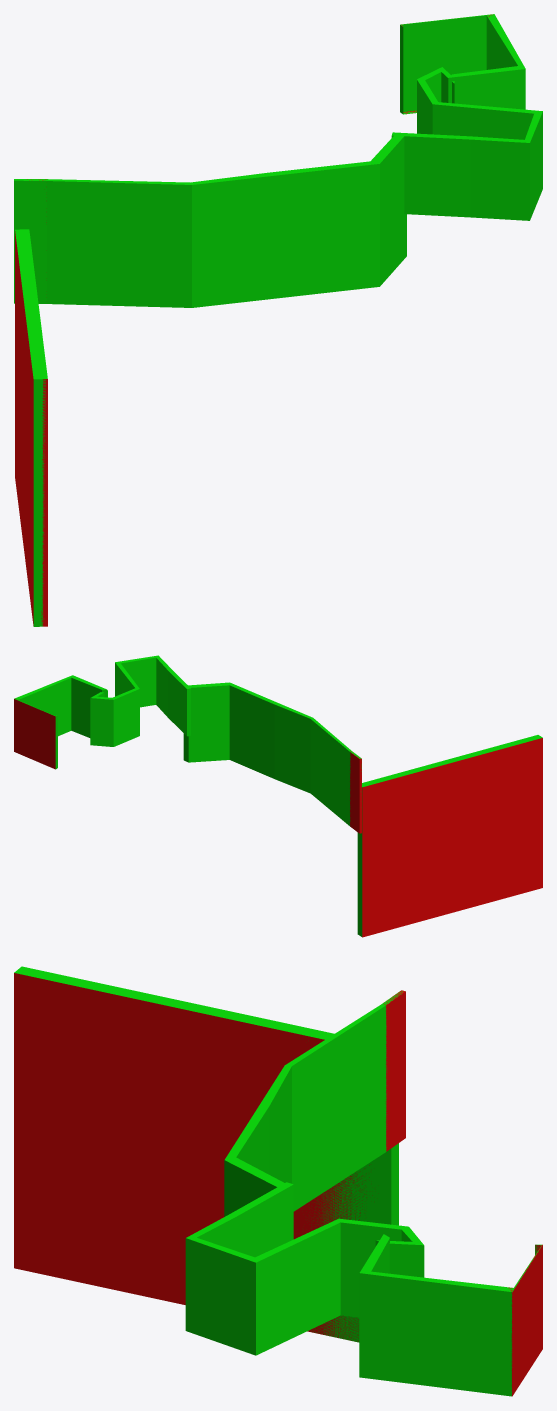
File: InvisibleWall_013.fbx
The picture shows the model from 3 angles, top to bottom: view 1: azimuth 30°, elevation 25°; view 2: azimuth 150°, elevation 25°; view 3: azimuth 270°, elevation 25°; orthographic projection. The views are drawn at different scales.
Visible parts, largest first — view 1: Designer112, Designer109, Designer108, InvisibleWall_013_Phys, Designer52; view 2: InvisibleWall_013_Phys, Designer112, Designer109, Designer108, Designer52; view 3: InvisibleWall_013_Phys, Designer109, Designer112, Designer108, Designer52.
Part boxes in pixels (left/top/right/bottom): Designer112: left=14, top=135, right=406, bottom=307; Designer109: left=391, top=67, right=542, bottom=220; Designer108: left=400, top=14, right=525, bottom=114; InvisibleWall_013_Phys: left=15, top=14, right=491, bottom=626; Designer52: left=15, top=229, right=47, bottom=626; InvisibleWall_013_Phys: left=14, top=699, right=542, bottom=937; Designer112: left=183, top=682, right=361, bottom=825; Designer109: left=90, top=655, right=190, bottom=746; Designer108: left=14, top=675, right=107, bottom=769; Designer52: left=357, top=735, right=542, bottom=936; InvisibleWall_013_Phys: left=14, top=973, right=542, bottom=1396; Designer109: left=185, top=1182, right=424, bottom=1355; Designer112: left=224, top=990, right=402, bottom=1216; Designer108: left=359, top=1234, right=541, bottom=1396; Designer52: left=14, top=966, right=398, bottom=1342.
Size of the model in its own units: 12757 by 5484 by 7348.
